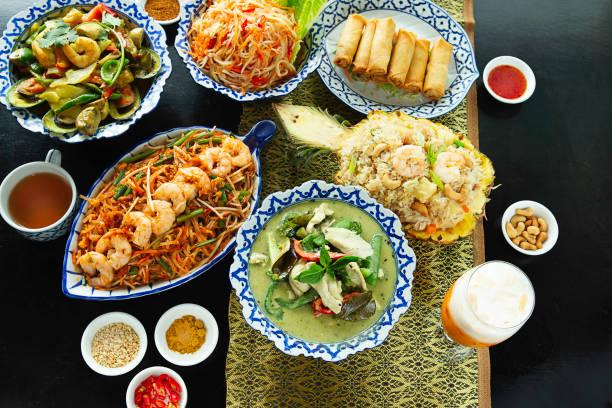Braised Crucian Carp: (63, 123, 264, 299), (229, 178, 413, 359), (0, 1, 172, 142), (311, 0, 480, 120), (333, 116, 496, 235), (173, 1, 317, 102)
